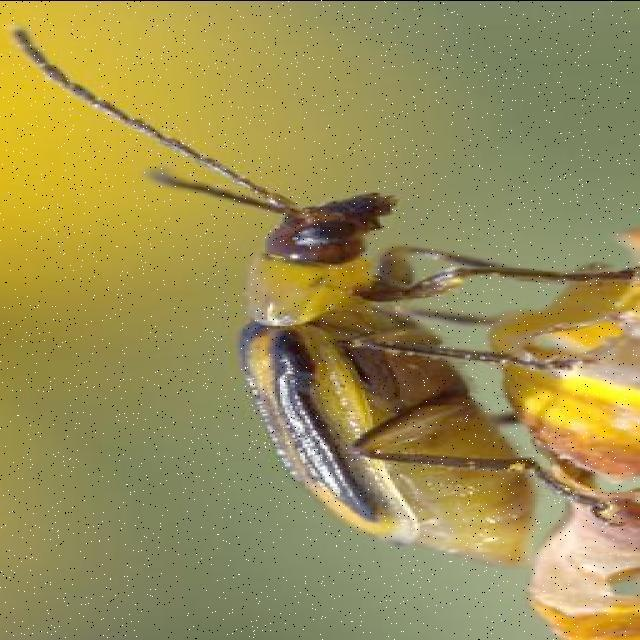trips: (30, 110, 640, 588)
